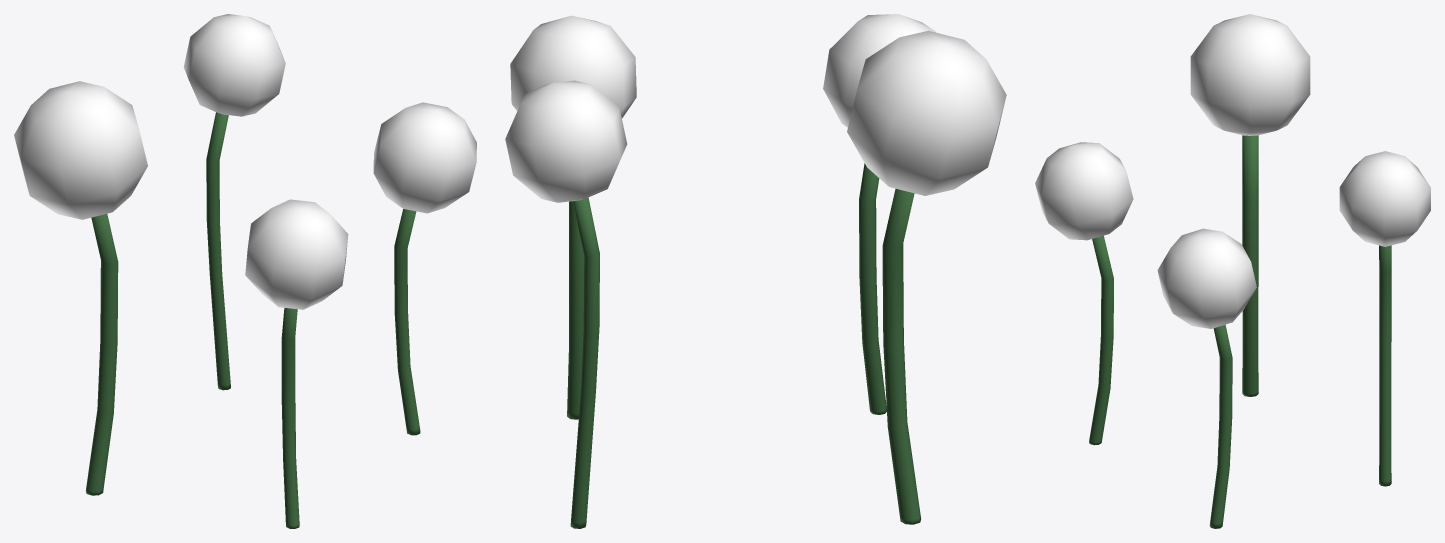
File: SM_Env_Flower1.fbx
3 renders of one model, left to right at view 1: azimuth 30°, elevation 25°; view 2: azimuth 150°, elevation 25°; view 3: azimuth 270°, elevation 25°, orthographic. The views are drawn at different scales.
Visible parts, largest first — view 1: SM_Env_Flower1; view 2: SM_Env_Flower1; view 3: SM_Env_Flower1.
Part boxes in pixels (x1,y1,x2,y2): SM_Env_Flower1: (14, 14, 476, 528); SM_Env_Flower1: (505, 14, 1006, 528); SM_Env_Flower1: (1035, 14, 1430, 528).
Size of the model in its own units: 38.65 by 35.09 by 34.24.
